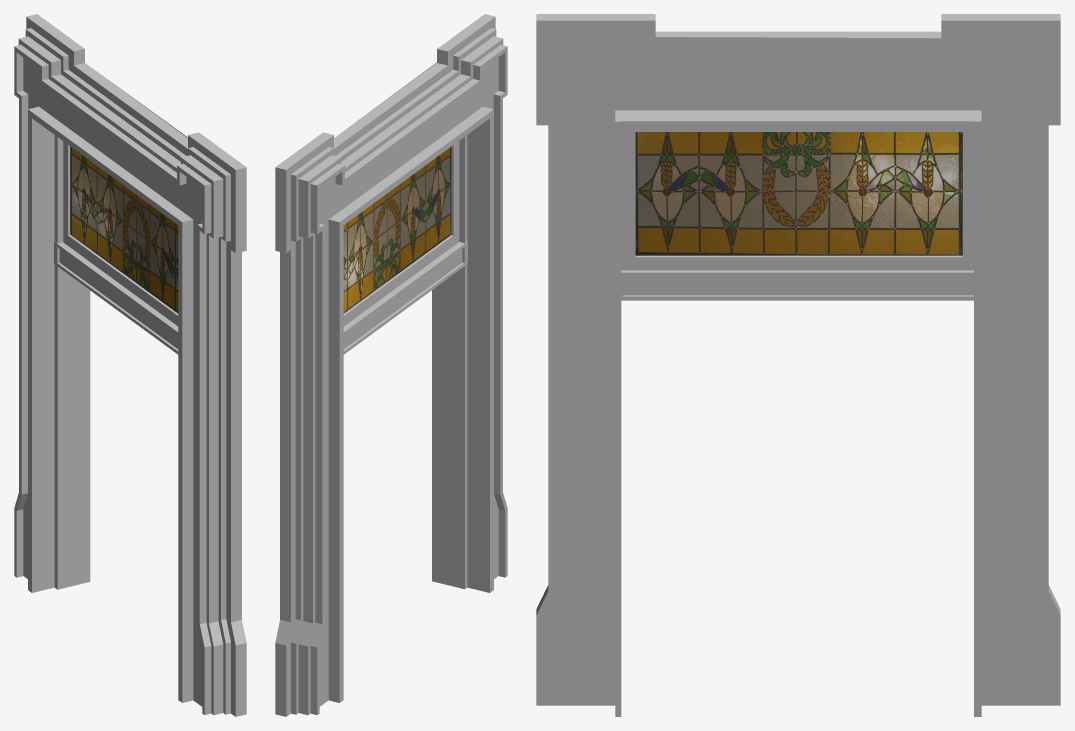
Rendered from SM_WD27_FRAME.fbx.
3 views of the same model, side by side, from view 1: azimuth 30°, elevation 25°; view 2: azimuth 150°, elevation 25°; view 3: azimuth 270°, elevation 25° (orthographic). The views are drawn at different scales.
Parts seen in each view (by area): view 1: SM_WD27_FRAME; view 2: SM_WD27_FRAME; view 3: SM_WD27_FRAME.
Boxes of the visible parts, bbox=[...] form: SM_WD27_FRAME: bbox=[14, 14, 246, 716]; SM_WD27_FRAME: bbox=[275, 14, 507, 716]; SM_WD27_FRAME: bbox=[536, 14, 1060, 716].
Bounding box in the file's own units: 40.89 × 268 × 386.
